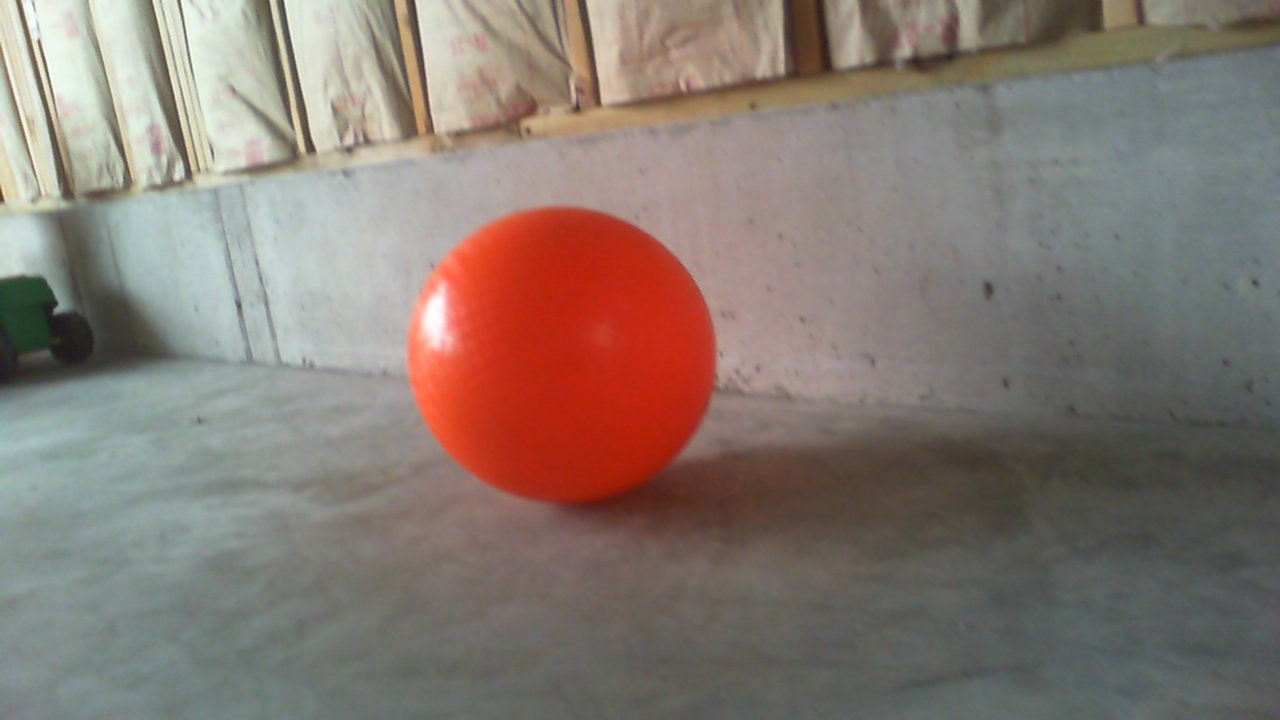Ball: (407, 206, 716, 504)
